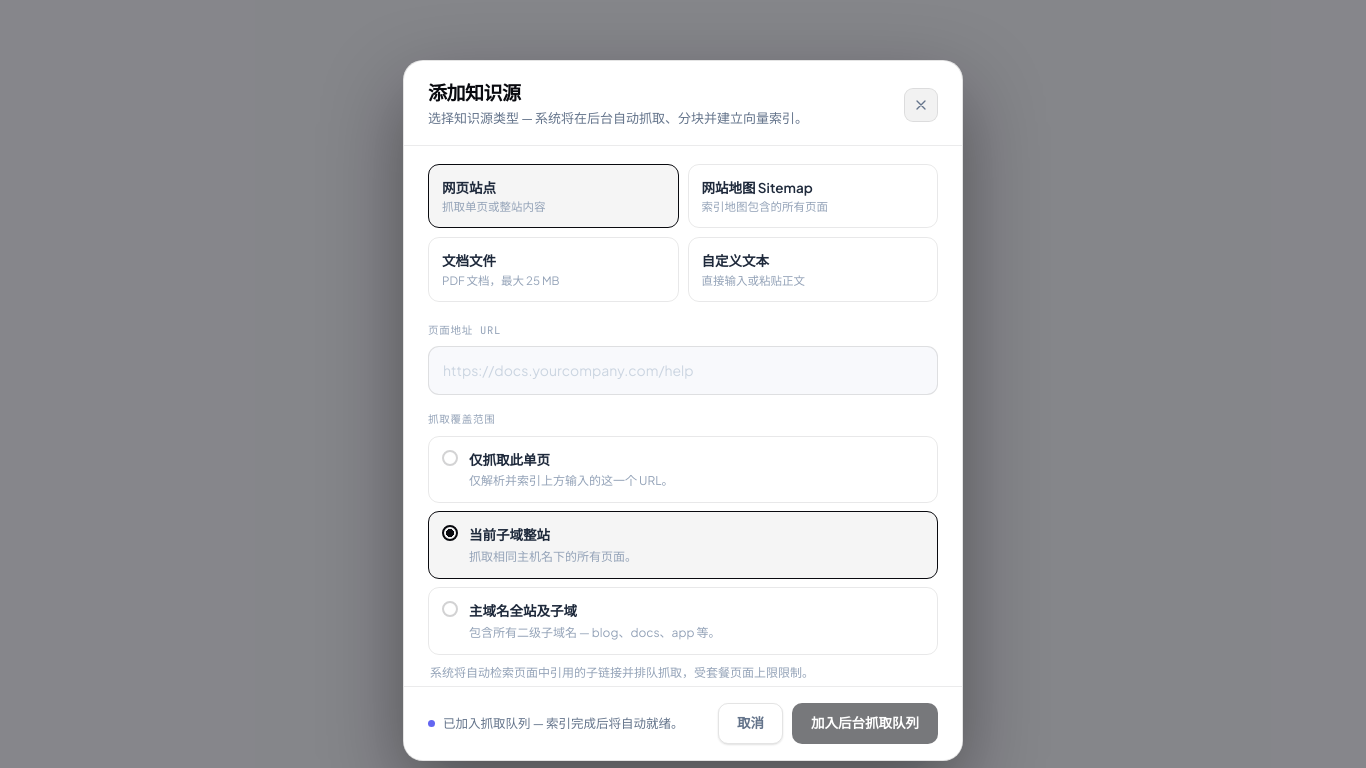
Test: KnowledgeAddSourceModal crawl scope › offers no section option for a homepage URL
Type "https://paywithatoa.co.uk" into the field with id "kb-add-url" at (683, 371), box [428,346,938,395]
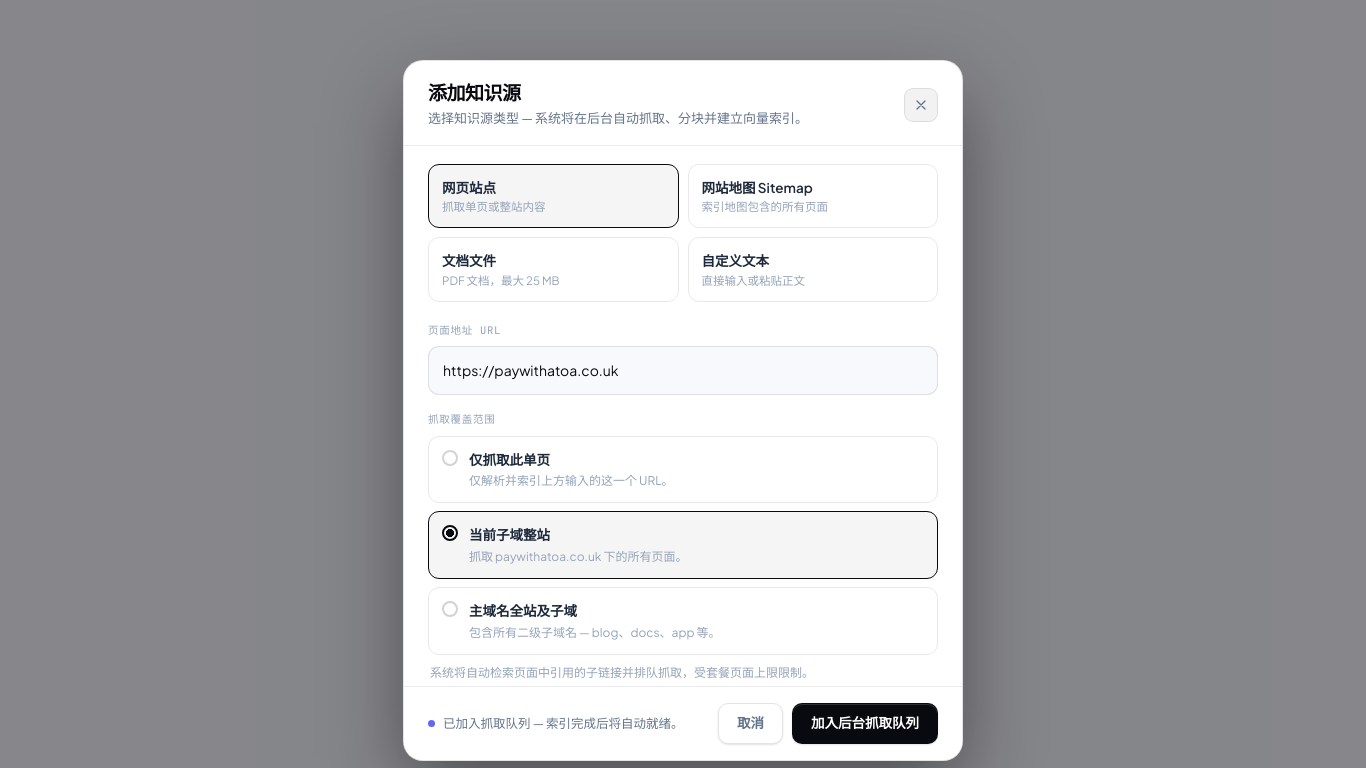
Result: the button "当前子域整站 抓取 paywithatoa.co.uk 下的所有页面。" is shown at [428,511,938,579]
